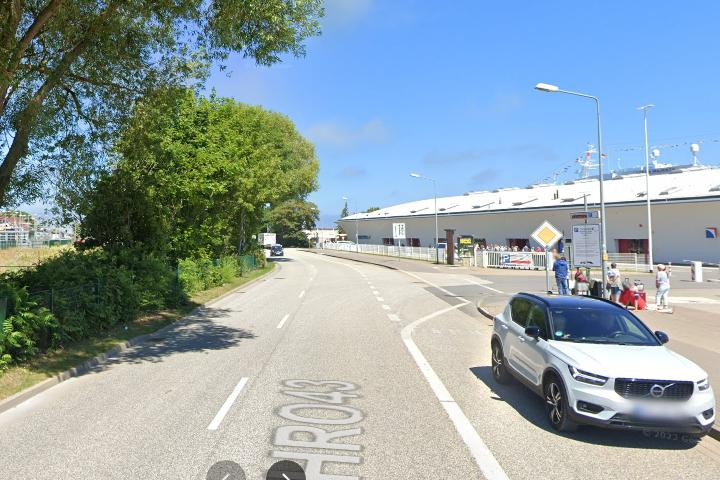google_maps: (206, 460, 246, 480), (266, 461, 306, 480)
traffic_sign: (530, 220, 564, 250)
vehicle: (488, 285, 719, 448), (254, 230, 279, 250), (267, 243, 285, 258)
